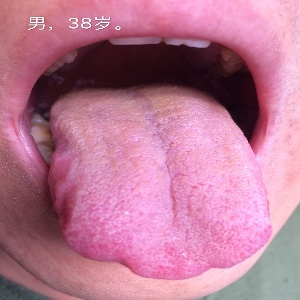st: (52, 96, 274, 276)
